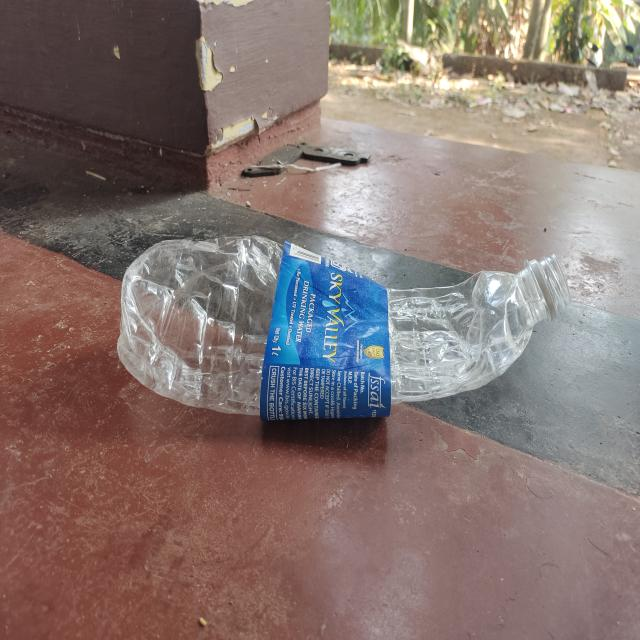plastic: (116, 230, 572, 425)
